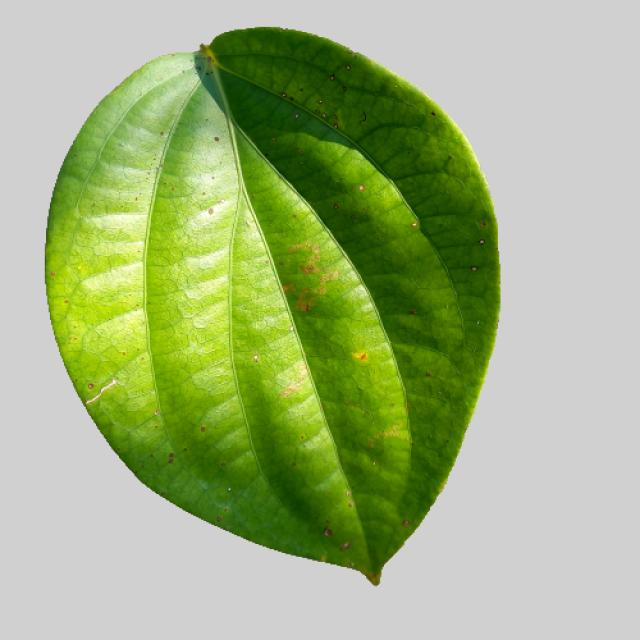healthy: (41, 22, 505, 605)
